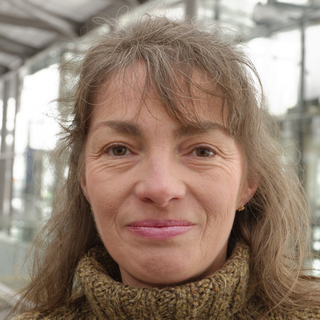eye: (179, 139, 226, 164), (97, 139, 144, 163)
